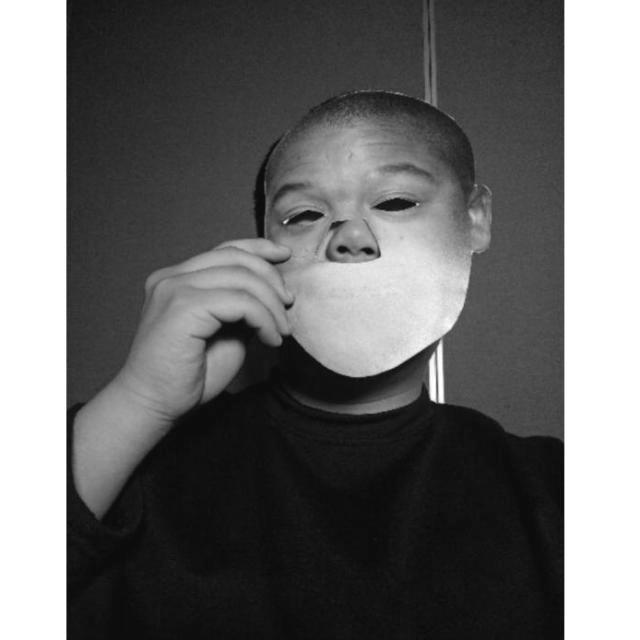fake: (261, 88, 497, 382)
